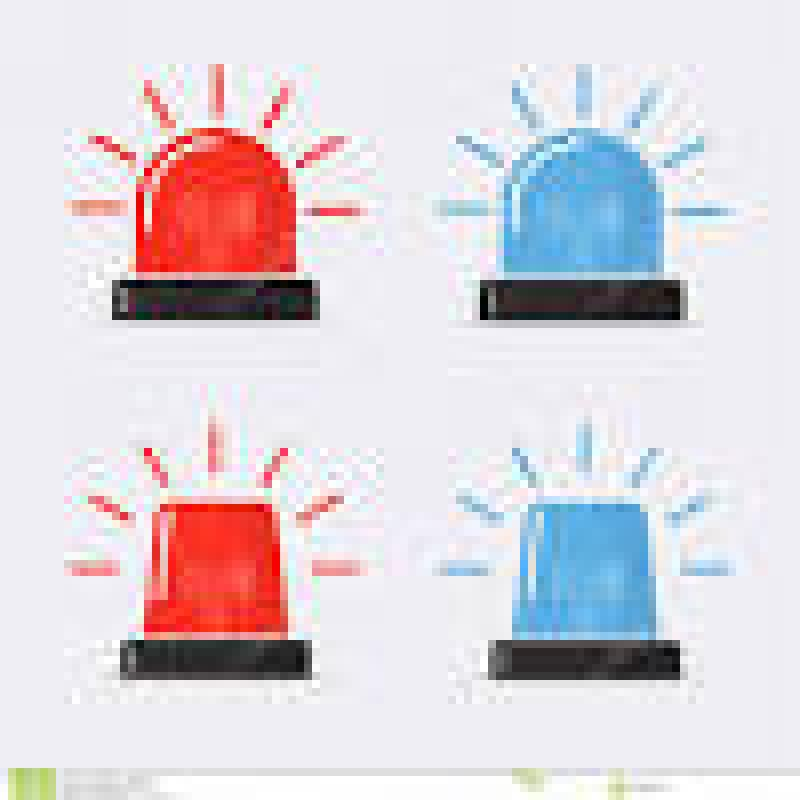AmbulanceSiren: (72, 82, 378, 363), (428, 72, 703, 349), (77, 461, 345, 711), (460, 442, 702, 698)
